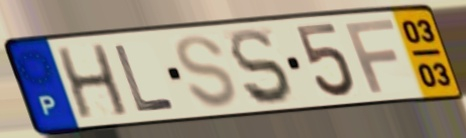5: (292, 20, 358, 100)
F: (341, 17, 400, 96)
H: (53, 41, 133, 122)
L: (110, 42, 179, 113)
S: (227, 26, 295, 108), (174, 32, 239, 111)
